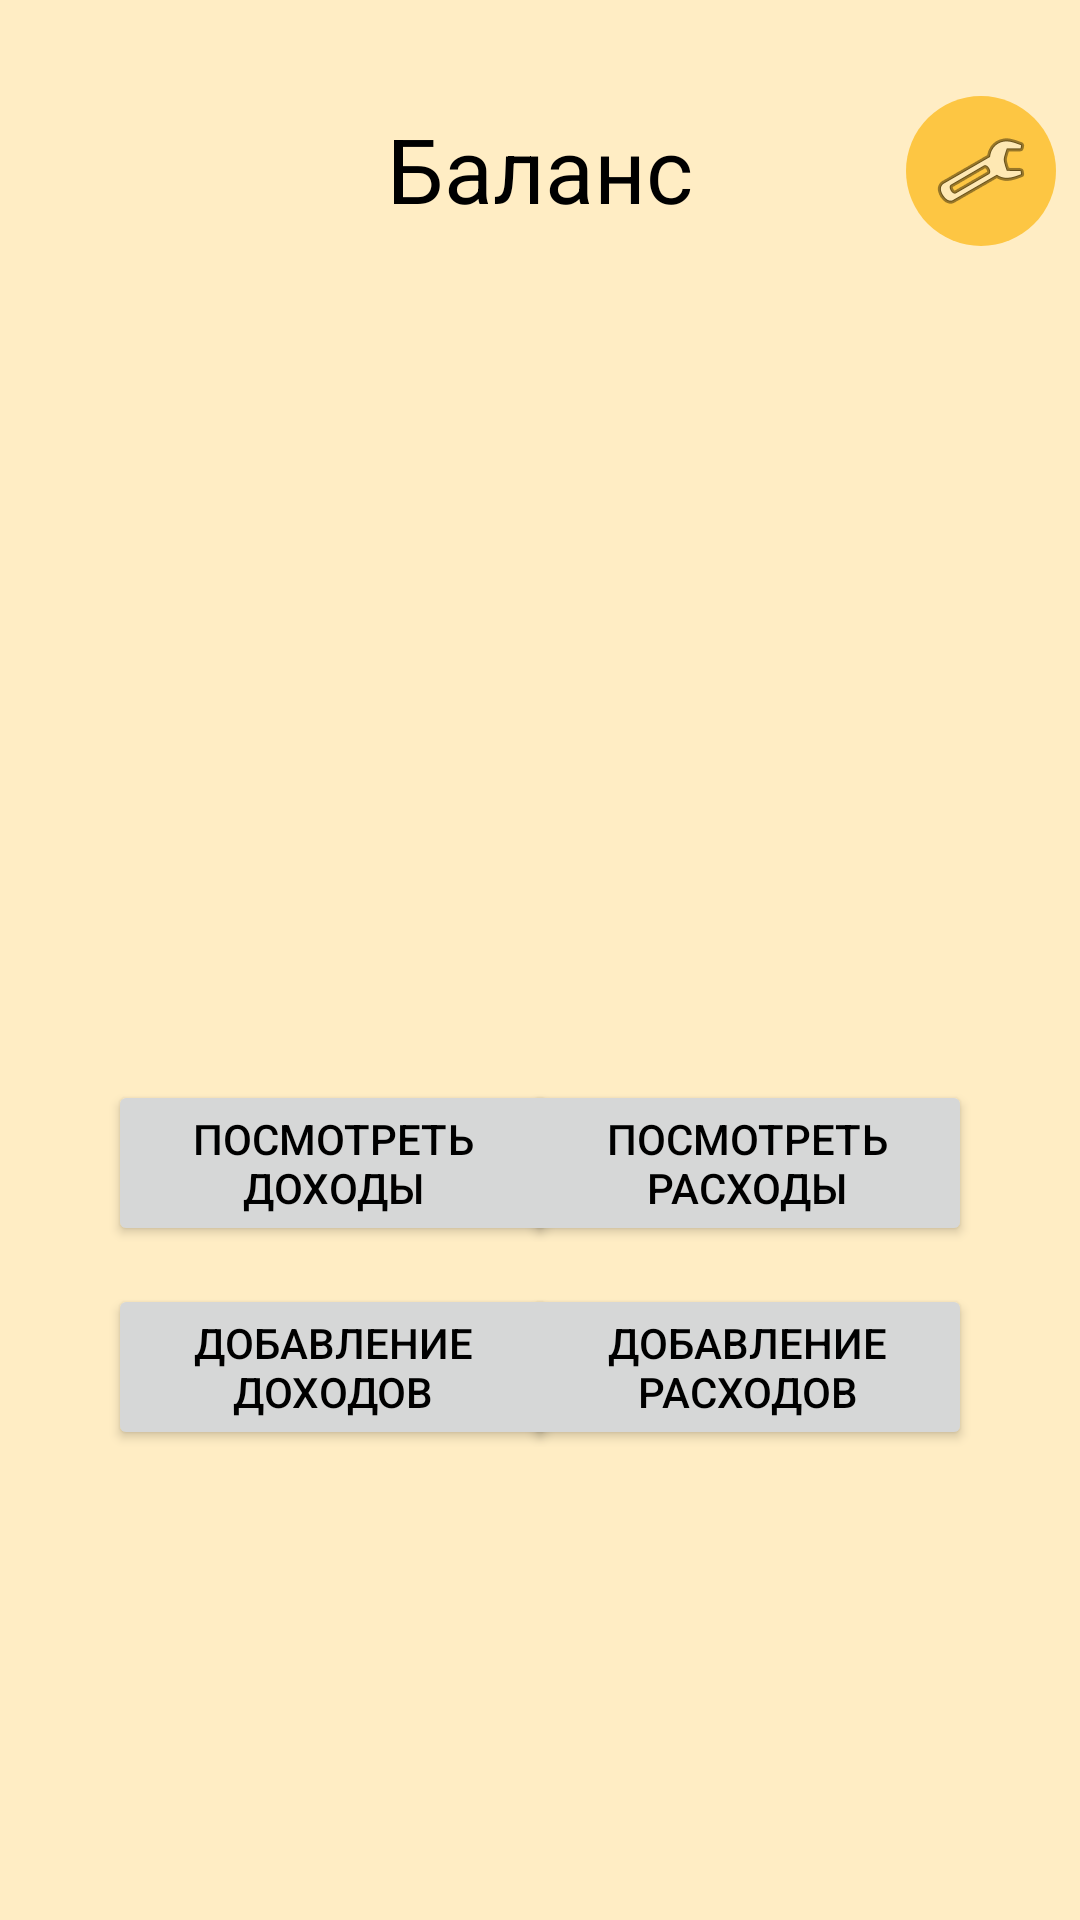

Point at icon controls on the screen. Image size 1080px×1920px, points as (x=x, y=y).
manage: (x=981, y=171)
